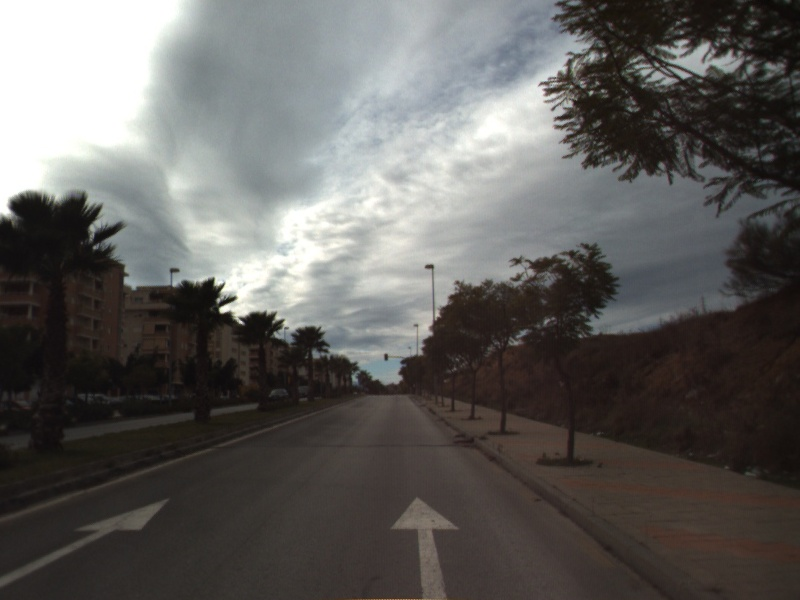STRAIGHT: (1, 496, 173, 589), (388, 495, 461, 600)
